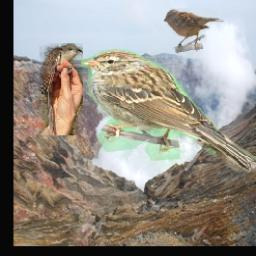Cuckoo: (39, 43, 83, 135)
Sparrow: (80, 49, 256, 174), (163, 8, 224, 55)
